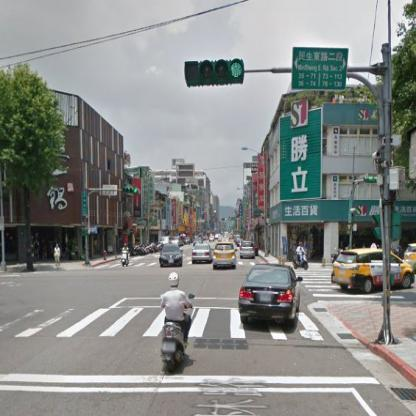Green Light: (186, 59, 247, 83), (123, 184, 139, 194)
